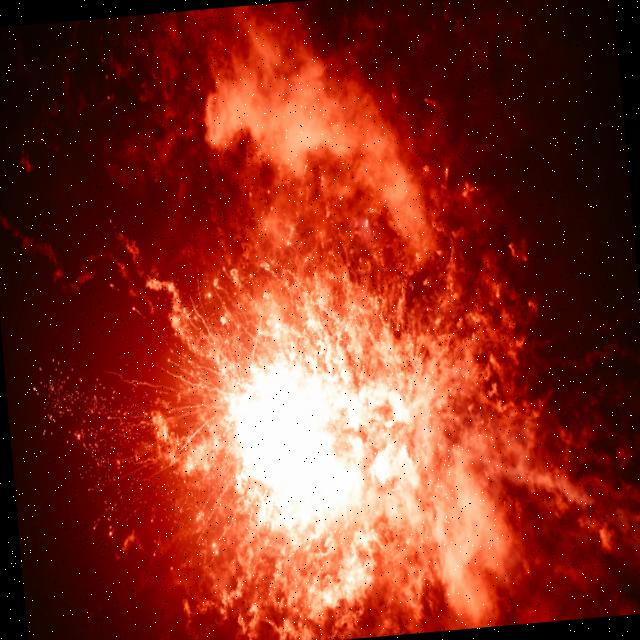explosion: (108, 100, 607, 630)
